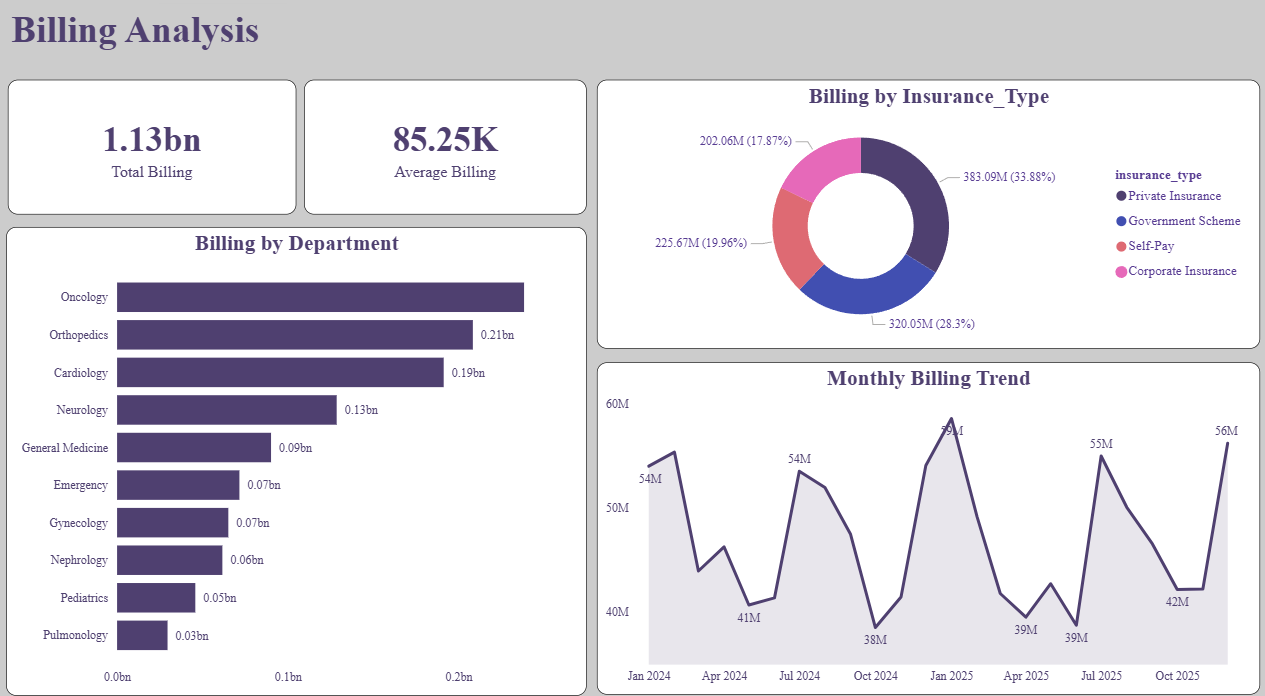

What the dashboard file says about the page in this screenshot:
{"tool":"powerbi","page":{"name":"Billing Analysis","canvas":[1280,720],"ordinal":2},"visuals":[{"type":"card","fields":{"Values":["hospital_admissions_cleaned.Total Billing"]},"box":[11.5,90.3,288.1,134.4],"z":0},{"type":"card","fields":{"Values":["hospital_admissions_cleaned.Average Billing"]},"box":[307.3,90.3,282.3,134.4],"z":1},{"type":"clusteredBarChart","title":"Billing by Department","fields":{"Category":["hospital_admissions_cleaned.department"],"Y":["hospital_admissions_cleaned.Total Billing"]},"box":[9.6,236.2,580,468.6],"z":2},{"type":"lineChart","title":"Monthly Billing Trend","fields":{"Y":["hospital_admissions_cleaned.Total Billing"],"Category":["hospital_admissions_cleaned.Admission Month.Variation.Date Hierarchy.Year","hospital_admissions_cleaned.Admission Month.Variation.Date Hierarchy.Quarter","hospital_admissions_cleaned.Admission Month.Variation.Date Hierarchy.Month","hospital_admissions_cleaned.Admission Month.Variation.Date Hierarchy.Day"]},"box":[601.1,372.6,662.6,332.2],"z":4},{"type":"textbox","box":[9.6,13.4,280.4,61.5],"z":5},{"type":"donutChart","title":"Billing by Insurance_Type","fields":{"Y":["hospital_admissions_cleaned.Total Billing"],"Category":["hospital_admissions_cleaned.insurance_type"]},"box":[601.1,90.3,662.6,268.9],"z":6}]}

Visuals, with their boxes in screenshot pixels (x1, y1, x2, y2), scaled from the page's 1280x720 canvas onto the 1265x696 screenshot:
card - hospital_admissions_cleaned.Total Billing: [x1=11, y1=87, x2=296, y2=217]
card - hospital_admissions_cleaned.Average Billing: [x1=304, y1=87, x2=583, y2=217]
"Billing by Department" clusteredBarChart: [x1=9, y1=228, x2=583, y2=681]
"Monthly Billing Trend" lineChart: [x1=594, y1=360, x2=1249, y2=681]
textbox: [x1=9, y1=13, x2=287, y2=72]
"Billing by Insurance_Type" donutChart: [x1=594, y1=87, x2=1249, y2=347]
